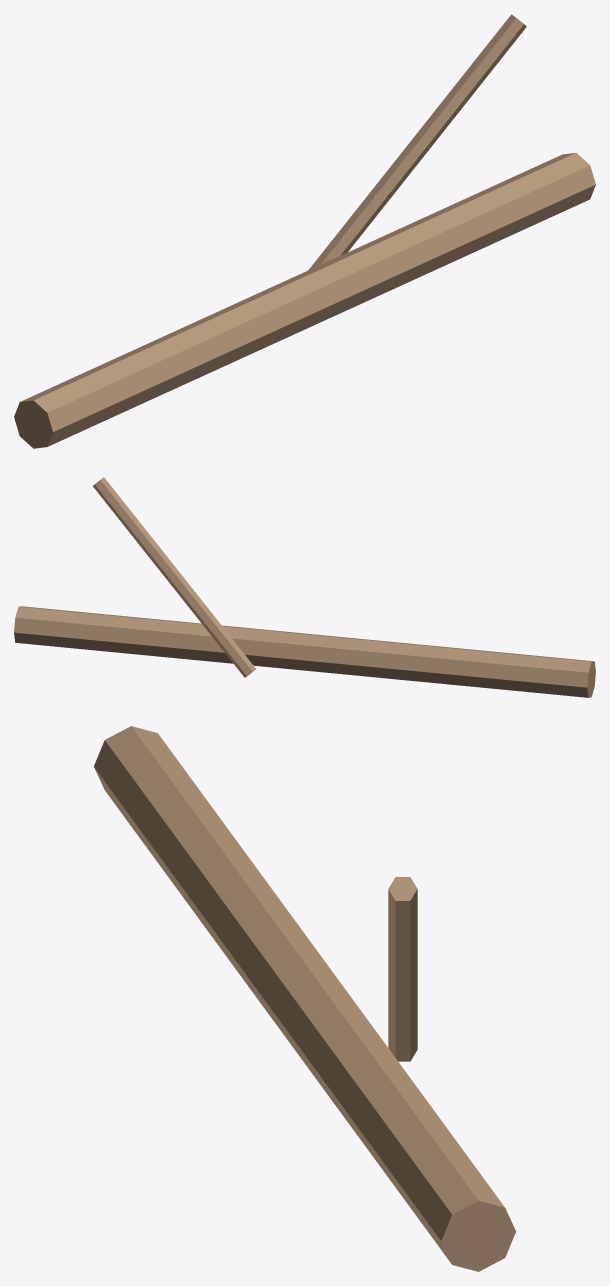
File: windblown_branch.glb
3 views of the same model, one above another, from view 1: azimuth 30°, elevation 25°; view 2: azimuth 150°, elevation 25°; view 3: azimuth 270°, elevation 25° (orthographic). The views are drawn at different scales.
Visible parts, largest first — view 1: branch, twig; view 2: branch, twig; view 3: branch, twig.
Part boxes in pixels (x1,y1,x2,y2): branch: (14,152,595,448); twig: (308,14,526,270); branch: (14,606,595,697); twig: (93,477,255,677); branch: (94,726,515,1271); twig: (388,877,417,1061).
Size of the model in its own units: 2.34 by 0.747 by 0.8624.
